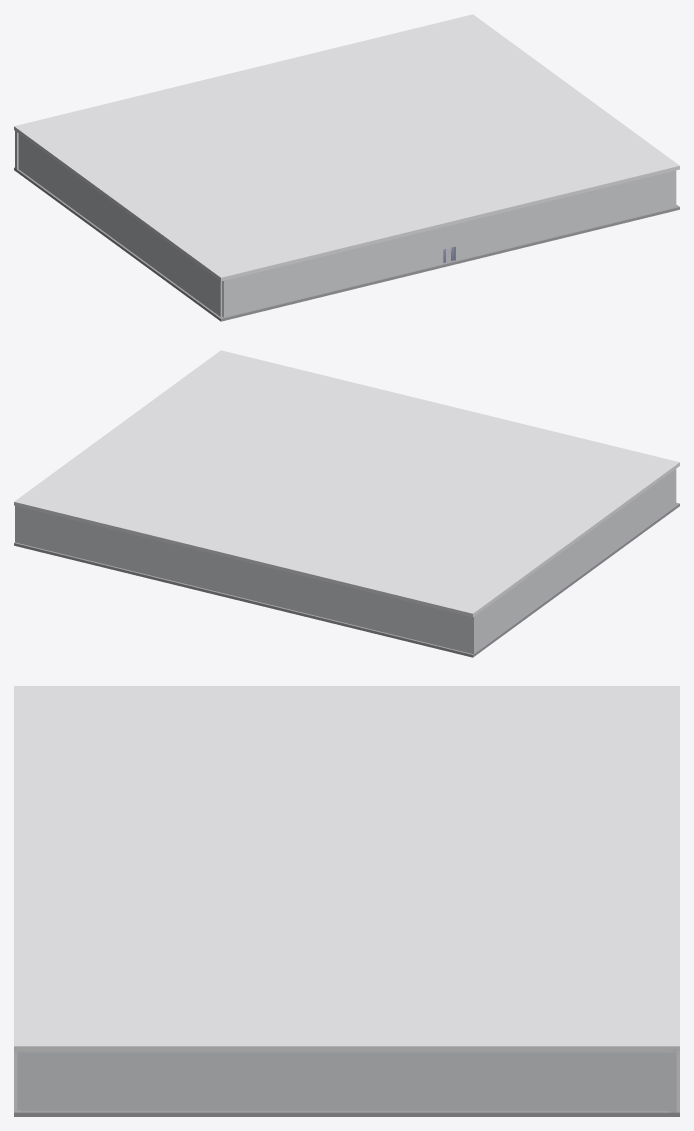
Rendered from world.glb.
3 views of the same model, one above another, from view 1: azimuth 30°, elevation 25°; view 2: azimuth 150°, elevation 25°; view 3: azimuth 270°, elevation 25° (orthographic). The views are drawn at different scales.
Visible parts, largest first — view 1: Ceiling, Wall_S_L, Wall_S_R, Wall_W, Terrain; view 2: Ceiling, Wall_N, Wall_W, Terrain; view 3: Ceiling, Wall_E, Terrain.
Boxes of the visible parts, x1=… form: Ceiling: x1=14, y1=14, x2=679, y2=281; Wall_S_L: x1=222, y1=227, x2=443, y2=317; Wall_S_R: x1=454, y1=171, x2=675, y2=260; Wall_W: x1=18, y1=134, x2=222, y2=316; Terrain: x1=14, y1=167, x2=679, y2=321; Ceiling: x1=14, y1=350, x2=679, y2=617; Wall_N: x1=15, y1=506, x2=475, y2=654; Wall_W: x1=476, y1=469, x2=676, y2=650; Terrain: x1=14, y1=502, x2=679, y2=657; Ceiling: x1=14, y1=686, x2=679, y2=1052; Wall_E: x1=20, y1=1052, x2=670, y2=1111; Terrain: x1=14, y1=1052, x2=679, y2=1116.
Bounding box in the file's own units: 91.4 × 8.35 × 71.4.
Materials: 57 (40 with a texture image).
